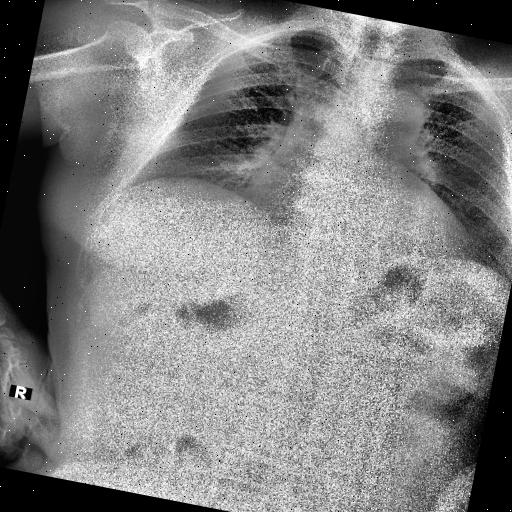0- Aortic enlargement: (362, 79, 434, 152), (354, 80, 430, 148), (350, 78, 429, 140)
3- Cardiomegaly: (244, 162, 486, 278), (247, 160, 481, 264), (240, 173, 473, 273)
